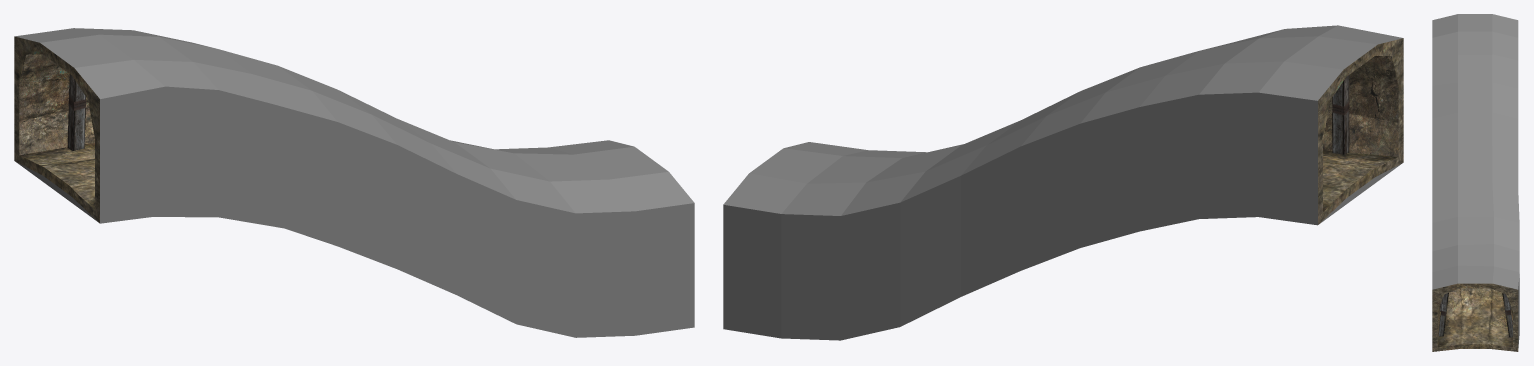
File: svgoldmine07-1.dae
3 views of the same model, side by side, from view 1: azimuth 30°, elevation 25°; view 2: azimuth 150°, elevation 25°; view 3: azimuth 270°, elevation 25° (orthographic). The views are drawn at different scales.
Parts seen in each view (by area): view 1: unnamed_object1_copy51-0, unnamed_object1_copy50-0; view 2: unnamed_object1_copy51-0, unnamed_object1_copy50-0; view 3: unnamed_object1_copy51-0, unnamed_object1_copy50-0.
Boxes of the visible parts, bbox=[...] form: unnamed_object1_copy51-0: bbox=[14, 28, 694, 337]; unnamed_object1_copy50-0: bbox=[67, 74, 85, 150]; unnamed_object1_copy51-0: bbox=[723, 25, 1403, 340]; unnamed_object1_copy50-0: bbox=[1332, 75, 1349, 154]; unnamed_object1_copy51-0: bbox=[1432, 14, 1519, 351]; unnamed_object1_copy50-0: bbox=[1438, 293, 1512, 337].
Bounding box in the file's own units: 6000 × 3720 × 1525.
